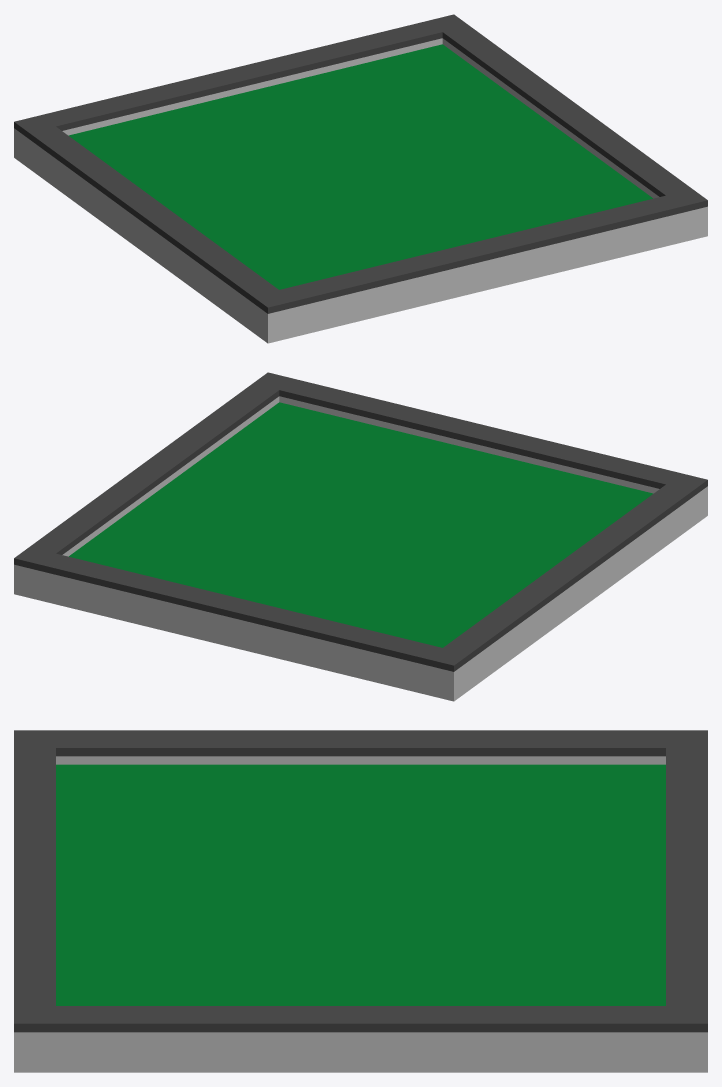
Rendered from Flowerbed-07b.fbx.
3 views of the same model, one above another, from view 1: azimuth 30°, elevation 25°; view 2: azimuth 150°, elevation 25°; view 3: azimuth 270°, elevation 25° (orthographic). The views are drawn at different scales.
Parts seen in each view (by area): view 1: Flowerbed-07b; view 2: Flowerbed-07b; view 3: Flowerbed-07b.
Part boxes in pixels (x1=…): Flowerbed-07b: x1=14, y1=14, x2=707, y2=343; Flowerbed-07b: x1=14, y1=372, x2=707, y2=701; Flowerbed-07b: x1=14, y1=730, x2=707, y2=1072.
Bounding box in the file's own units: 3.32 × 0.2592 × 3.32.
